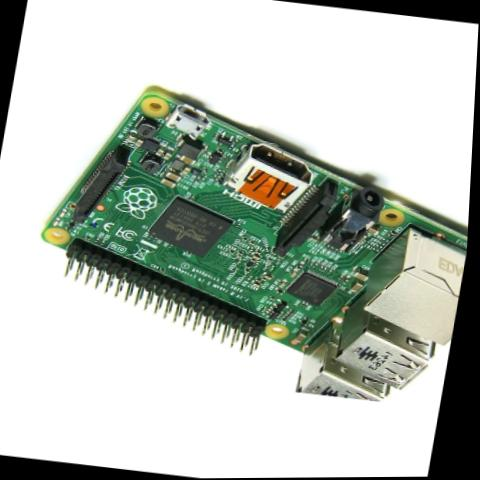Raspberry-Pi-2-Model-B: (3, 70, 477, 412)
